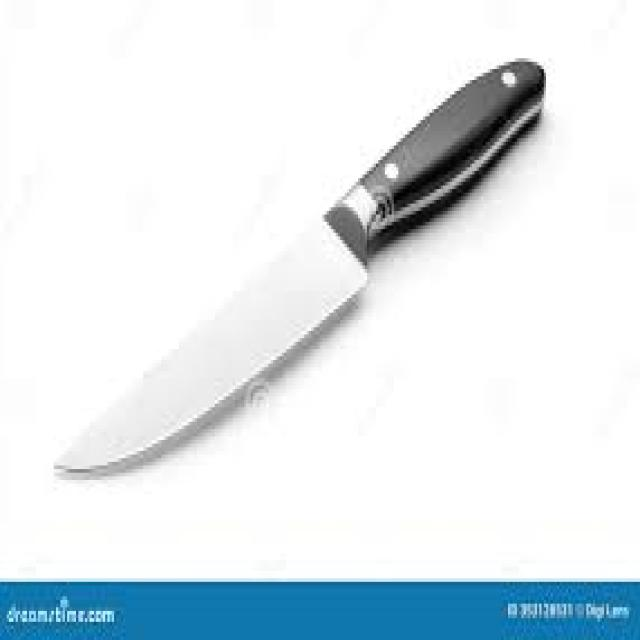Knife: (51, 54, 546, 477)
